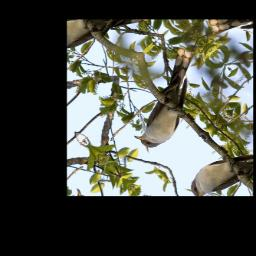Cuckoo: (110, 44, 226, 155)
